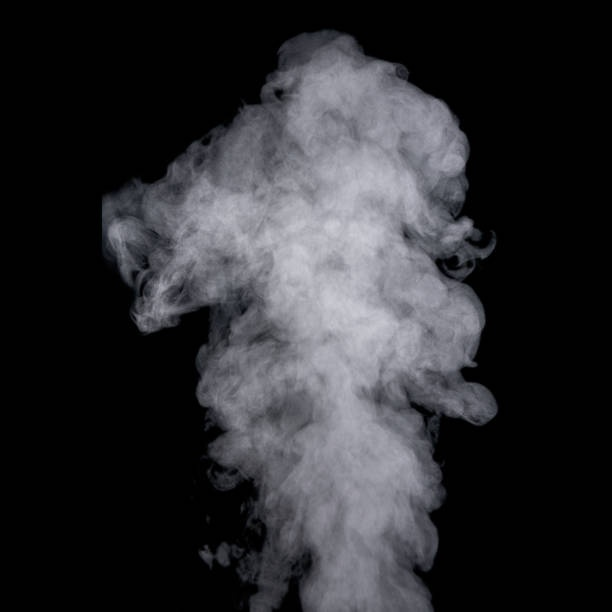smoke: (181, 30, 493, 612)
